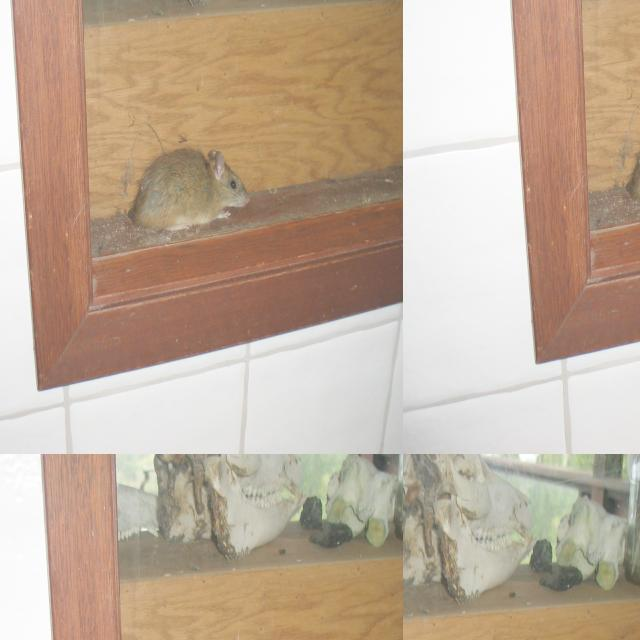rat: (196, 0, 403, 124)
